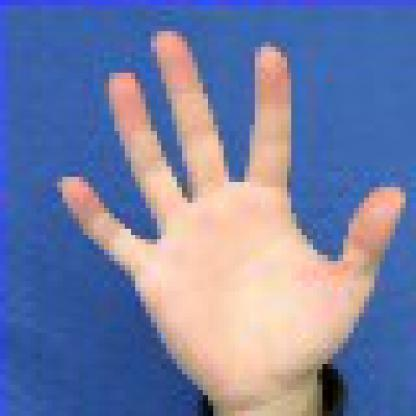five: (52, 23, 412, 415)
